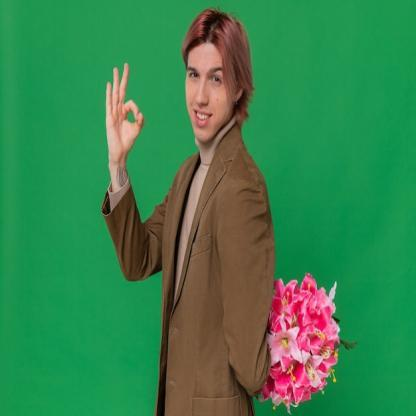ok: (102, 58, 146, 164)
